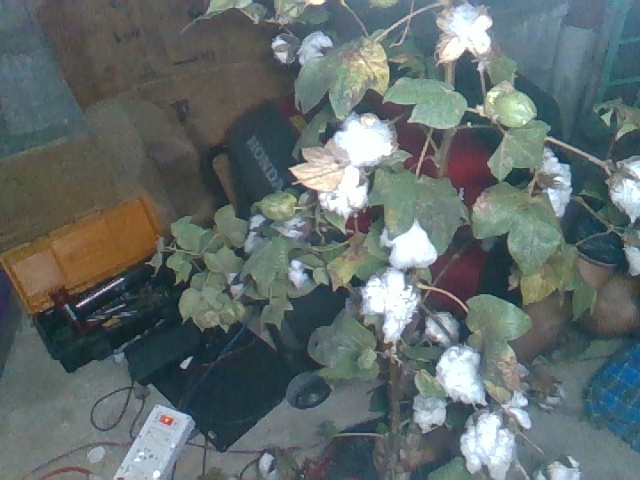cotton: (456, 405, 522, 480), (355, 267, 419, 342), (434, 1, 497, 69), (378, 212, 442, 273), (334, 110, 400, 168), (311, 158, 370, 222), (433, 343, 489, 409), (530, 146, 575, 218), (603, 151, 640, 228), (406, 387, 451, 431), (422, 307, 464, 346), (295, 27, 335, 67), (529, 455, 584, 480), (269, 31, 298, 67), (283, 257, 309, 292), (621, 240, 640, 279)
